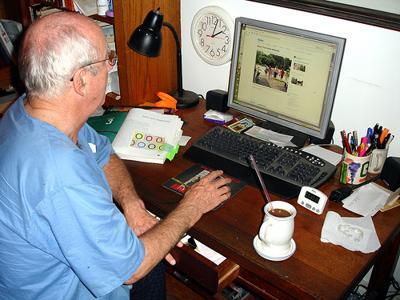person: (1, 11, 230, 300)
